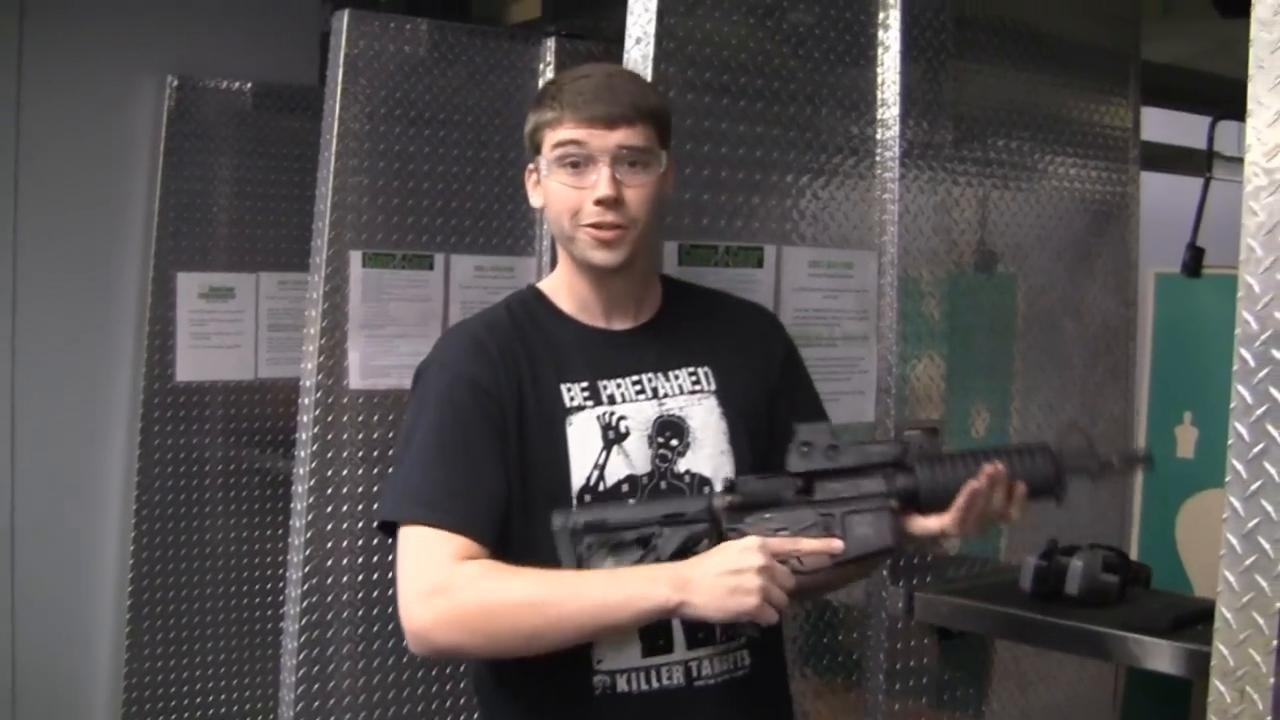M4 Rifle: (552, 417, 1156, 573)
